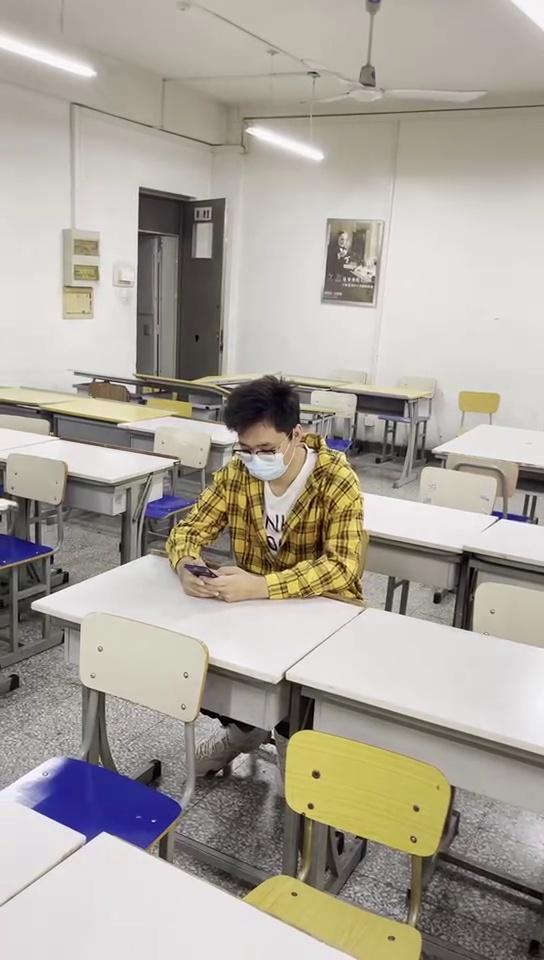phone: (166, 384, 363, 601)
